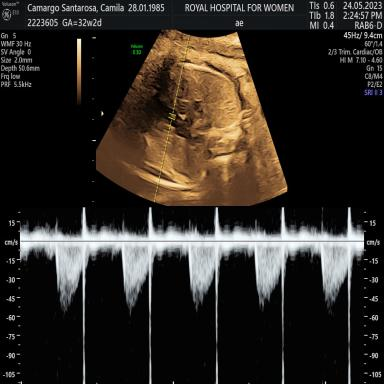Ultrasound-Waves: (30, 206, 361, 384)
